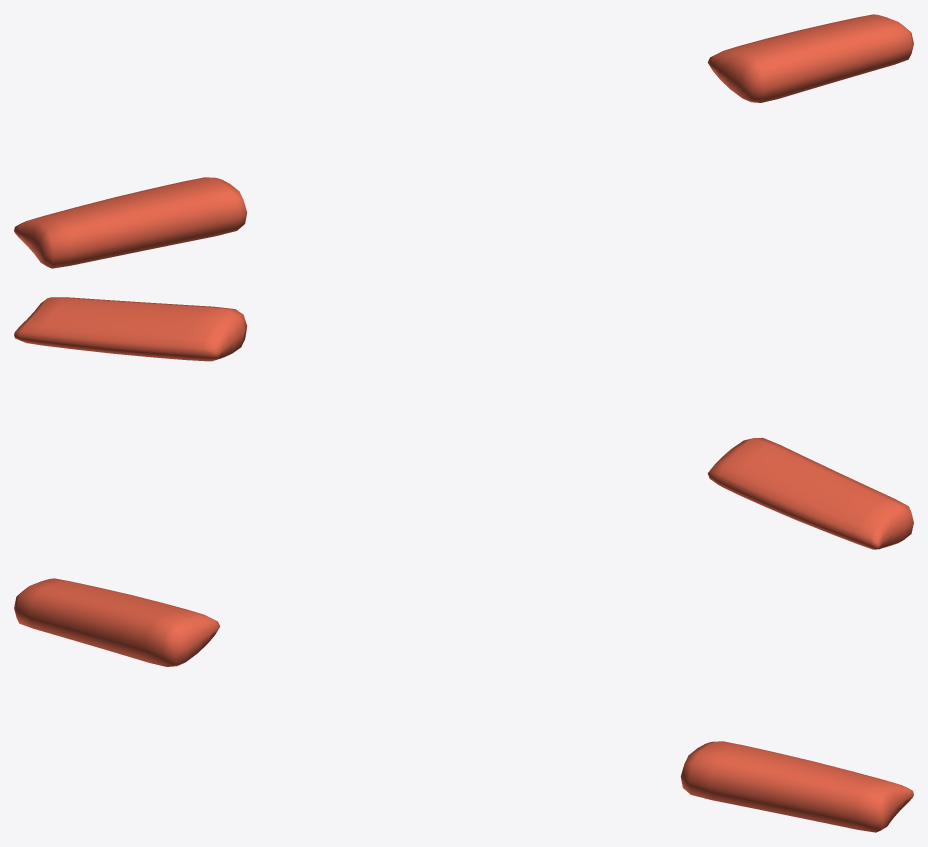
File: flaps.glb
3 renders of one model, top to bottom at view 1: azimuth 30°, elevation 25°; view 2: azimuth 150°, elevation 25°; view 3: azimuth 330°, elevation 25°, orthographic.
Visible parts, largest first — view 1: Flap Right, Flap Left; view 2: Flap Right, Flap Left; view 3: Flap Left, Flap Right.
Part boxes in pixels (x1,y1,x2,y2): Flap Right: [14, 177, 247, 268]; Flap Left: [707, 14, 913, 102]; Flap Right: [707, 437, 913, 549]; Flap Left: [14, 297, 247, 361]; Flap Left: [680, 741, 913, 832]; Flap Right: [14, 578, 220, 666].
Bounding box in the file's own units: 6.97 × 0.4038 × 0.794.
